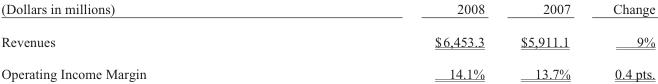table: (0, 0, 654, 80)
table column: (0, 0, 289, 80), (289, 0, 502, 80), (502, 0, 591, 80), (591, 0, 654, 80)
table column header: (0, 0, 654, 24)
table row: (0, 24, 654, 57), (0, 0, 654, 24), (0, 57, 654, 80)
